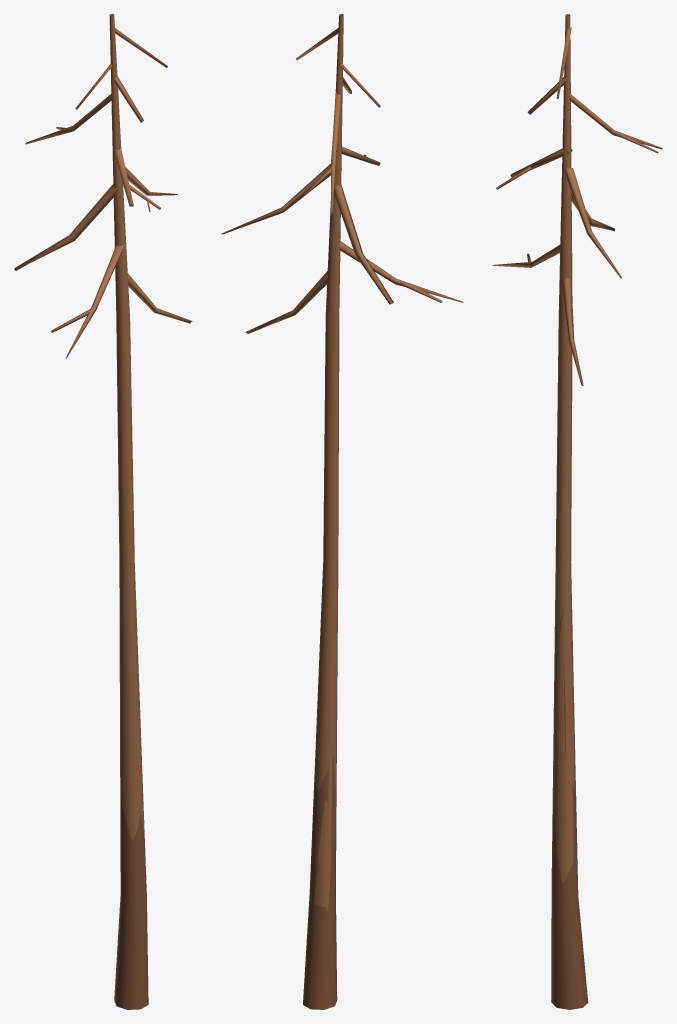
File: lg_dead_tree_1.fbx
3 views of the same model, side by side, from view 1: azimuth 30°, elevation 25°; view 2: azimuth 150°, elevation 25°; view 3: azimuth 270°, elevation 25° (orthographic).
Visible parts, largest first — view 1: lg_dead_tree_1_LOD00; view 2: lg_dead_tree_1_LOD00; view 3: lg_dead_tree_1_LOD00.
Part boxes in pixels (x1,y1,x2,y2): lg_dead_tree_1_LOD00: (14, 14, 192, 1009); lg_dead_tree_1_LOD00: (221, 14, 463, 1009); lg_dead_tree_1_LOD00: (492, 14, 662, 1009).
Size of what is drawn, in the model's own units: 2.96 by 15.84 by 2.5.
